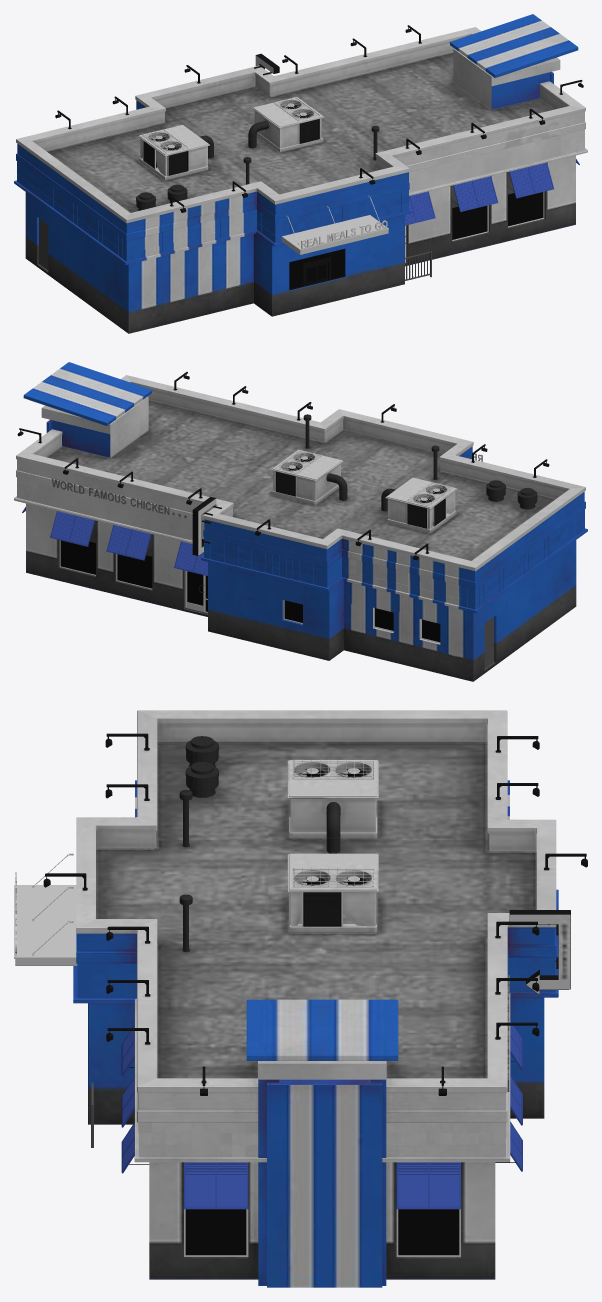
Rendered from dkfc2.glb.
The picture shows the model from 3 angles, top to bottom: view 1: azimuth 30°, elevation 25°; view 2: azimuth 150°, elevation 25°; view 3: azimuth 270°, elevation 25°; orthographic projection. The views are drawn at different scales.
Visible parts, largest first — view 1: exterior_walls1_pivot.001, roof_pivot.001, exterior_walls3_pivot.001, exterior_walls2_pivot.001, air_conditioning2_pivot.001, air_conditioning1_pivot.001, glass_pivot.001, overlap_pivot.001, lighting_pivot.001, jalousie7_pivot.001, jalousie6_pivot.001, windows_pivot.001 (+4 smaller); view 2: exterior_walls1_pivot.001, roof_pivot.001, exterior_walls3_pivot.001, exterior_walls2_pivot.001, glass_pivot.001, air_conditioning2_pivot.001, air_conditioning1_pivot.001, lighting_pivot.001, roof_details_pivot.001, jalousie3_pivot.001, jalousie4_pivot.001, exterior_texts_pivot.001 (+5 smaller); view 3: roof_pivot.001, exterior_walls1_pivot.001, exterior_walls2_pivot.001, exterior_walls3_pivot.001, air_conditioning2_pivot.001, air_conditioning1_pivot.001, glass_pivot.001, overlap_pivot.001, lighting_pivot.001, jalousie1_pivot.001, jalousie2_pivot.001, roof_details_pivot.001 (+1 smaller).
Boxes of the visible parts, bbox=[...] form: exterior_walls1_pivot.001: bbox=[14, 27, 587, 333]; roof_pivot.001: bbox=[46, 52, 555, 212]; exterior_walls3_pivot.001: bbox=[17, 129, 584, 261]; exterior_walls2_pivot.001: bbox=[449, 14, 578, 109]; air_conditioning2_pivot.001: bbox=[138, 124, 213, 180]; air_conditioning1_pivot.001: bbox=[248, 97, 324, 152]; glass_pivot.001: bbox=[289, 192, 543, 288]; overlap_pivot.001: bbox=[281, 215, 388, 254]; lighting_pivot.001: bbox=[55, 25, 583, 212]; jalousie7_pivot.001: bbox=[453, 176, 498, 211]; jalousie6_pivot.001: bbox=[509, 162, 553, 198]; windows_pivot.001: bbox=[289, 192, 544, 290]; exterior_walls1_pivot.001: bbox=[14, 375, 587, 681]; roof_pivot.001: bbox=[46, 399, 555, 560]; exterior_walls3_pivot.001: bbox=[17, 477, 584, 609]; exterior_walls2_pivot.001: bbox=[23, 362, 152, 457]; glass_pivot.001: bbox=[60, 540, 440, 642]; air_conditioning2_pivot.001: bbox=[381, 477, 457, 532]; air_conditioning1_pivot.001: bbox=[271, 449, 347, 504]; lighting_pivot.001: bbox=[17, 372, 549, 560]; roof_details_pivot.001: bbox=[303, 414, 537, 509]; jalousie3_pivot.001: bbox=[50, 511, 94, 546]; jalousie4_pivot.001: bbox=[106, 525, 151, 560]; exterior_texts_pivot.001: bbox=[52, 453, 482, 518]; roof_pivot.001: bbox=[96, 741, 536, 1078]; exterior_walls1_pivot.001: bbox=[73, 710, 558, 1279]; exterior_walls2_pivot.001: bbox=[246, 999, 398, 1287]; exterior_walls3_pivot.001: bbox=[77, 927, 556, 1157]; air_conditioning2_pivot.001: bbox=[287, 760, 378, 853]; air_conditioning1_pivot.001: bbox=[287, 852, 378, 932]; glass_pivot.001: bbox=[185, 1209, 459, 1255]; overlap_pivot.001: bbox=[14, 884, 77, 965]; lighting_pivot.001: bbox=[43, 733, 587, 1095]; jalousie1_pivot.001: bbox=[396, 1162, 460, 1209]; jalousie2_pivot.001: bbox=[184, 1162, 248, 1209]; roof_details_pivot.001: bbox=[179, 736, 218, 951].
Size of the model in its own units: 158 by 46.53 by 96.54.
Materials: 1 (1 with a texture image).
